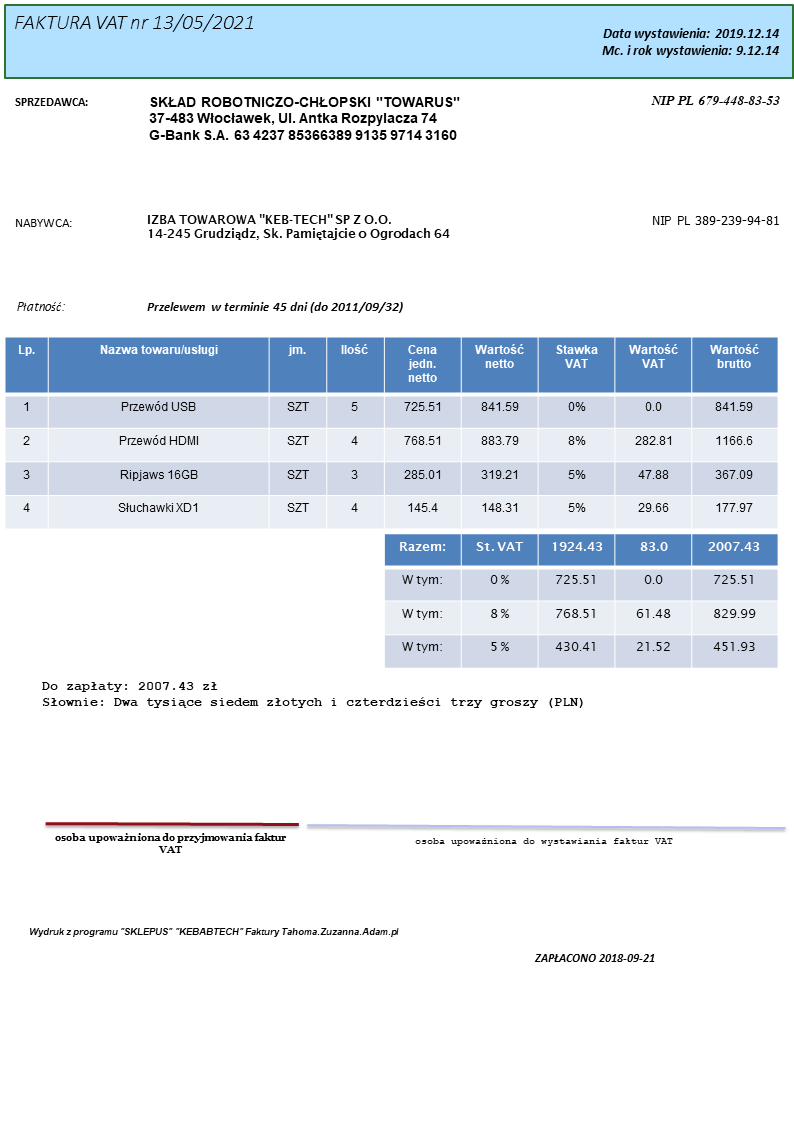Table: (3, 335, 772, 530), (382, 532, 778, 667)
TextBox: (37, 677, 585, 712), (146, 92, 462, 146), (143, 211, 451, 243), (600, 23, 782, 61), (25, 922, 401, 940), (52, 829, 290, 856), (12, 10, 256, 36), (143, 297, 406, 316), (411, 832, 675, 849), (646, 90, 783, 110), (528, 949, 658, 968), (647, 211, 782, 229), (11, 93, 89, 110), (11, 214, 73, 232), (12, 298, 66, 315)
